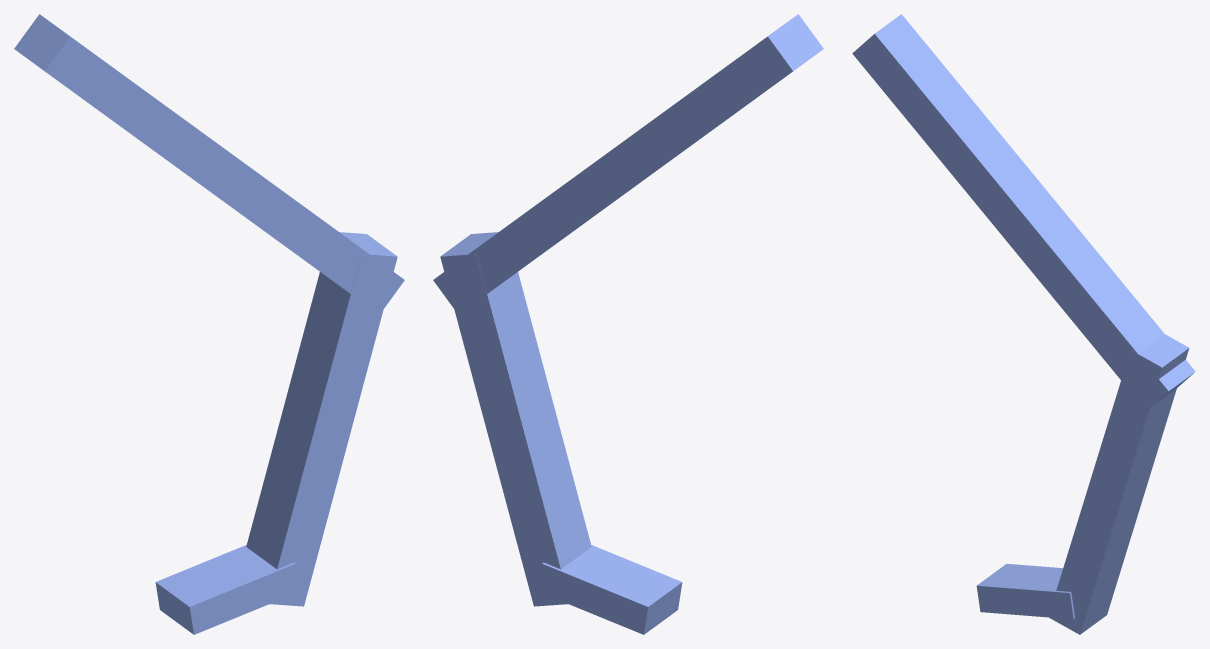
The model's file is claw_prong.glb.
The picture shows the model from 3 angles, left to right: view 1: azimuth 30°, elevation 25°; view 2: azimuth 150°, elevation 25°; view 3: azimuth 330°, elevation 25°; orthographic projection. The views are drawn at different scales.
Parts seen in each view (by area): view 1: ProngB; view 2: ProngB; view 3: ProngB.
Boxes of the visible parts, box(x1,y1,x2,y2) form: ProngB: box(14, 14, 404, 634); ProngB: box(433, 14, 823, 634); ProngB: box(852, 14, 1195, 634).
Bounding box in the file's own units: 0.3423 × 0.5693 × 0.0563.
